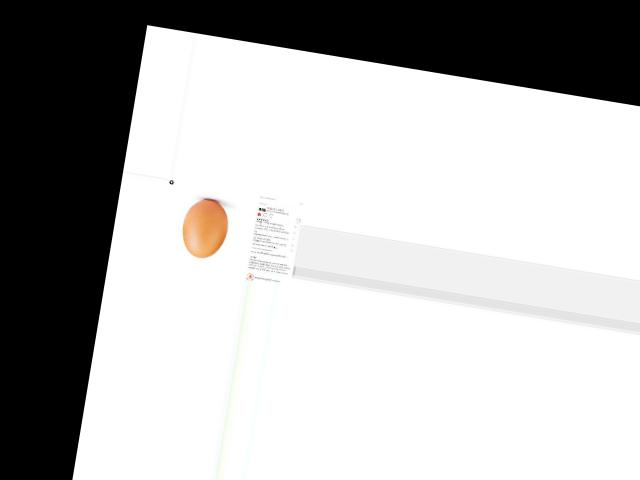egg: (179, 196, 232, 260)
